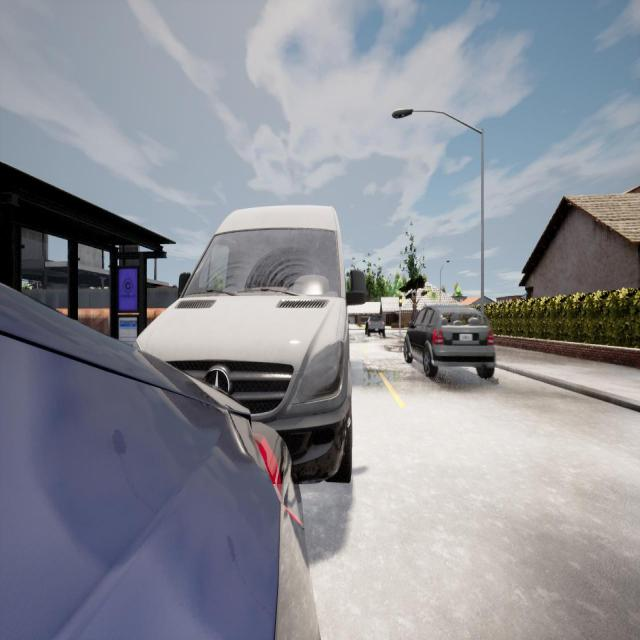Vehicle: (0, 283, 319, 638), (131, 205, 366, 486), (403, 303, 498, 379), (365, 315, 386, 337)
traffic_light: (399, 295, 402, 307)
